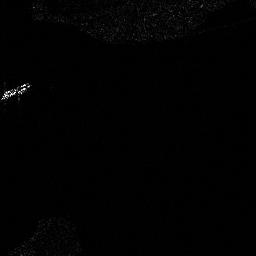ship: (2, 82, 32, 101)
